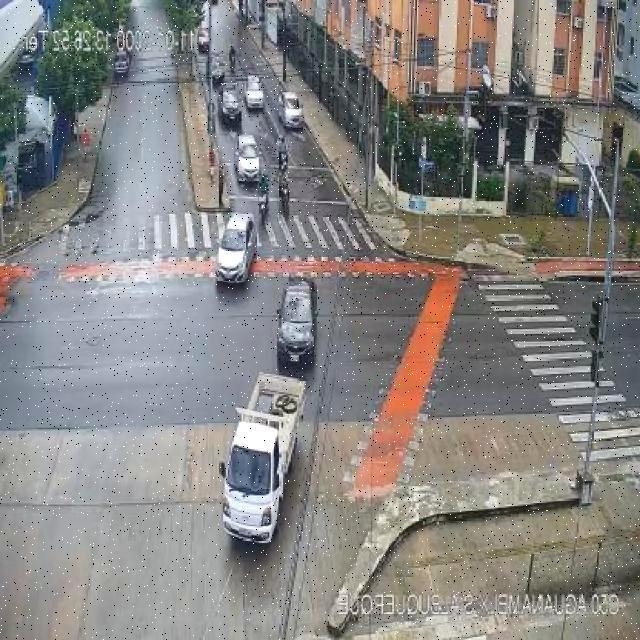Car: (273, 277, 319, 368), (215, 212, 258, 283), (234, 131, 263, 185), (276, 90, 308, 128), (218, 85, 244, 126), (244, 74, 266, 112)
Cycle: (276, 166, 296, 212), (255, 172, 270, 218), (274, 132, 292, 166)
Truck: (217, 366, 310, 548)
